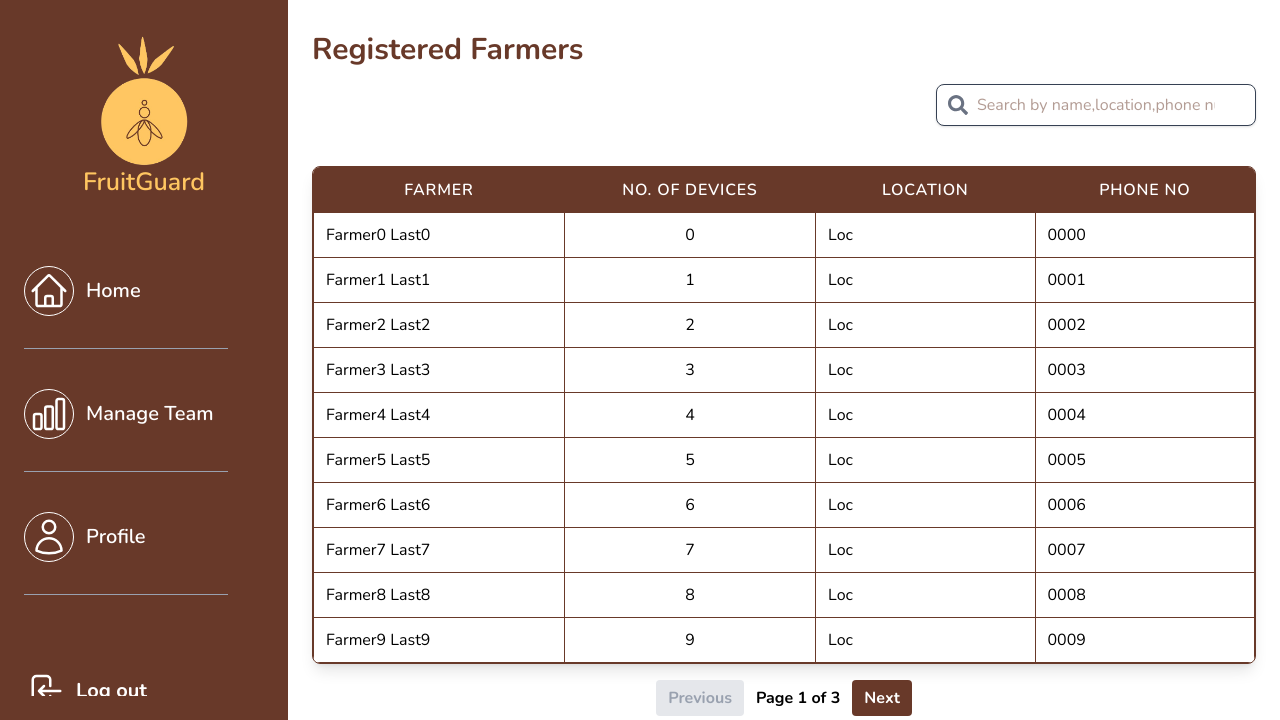
Test: Team component › handles pagination controls
The image size is (1280, 720).
Expected: the text "Page 1 of 3" is shown, 756,686 -> 840,710
Click the button "Next": point(882, 698) 852,680 -> 912,716
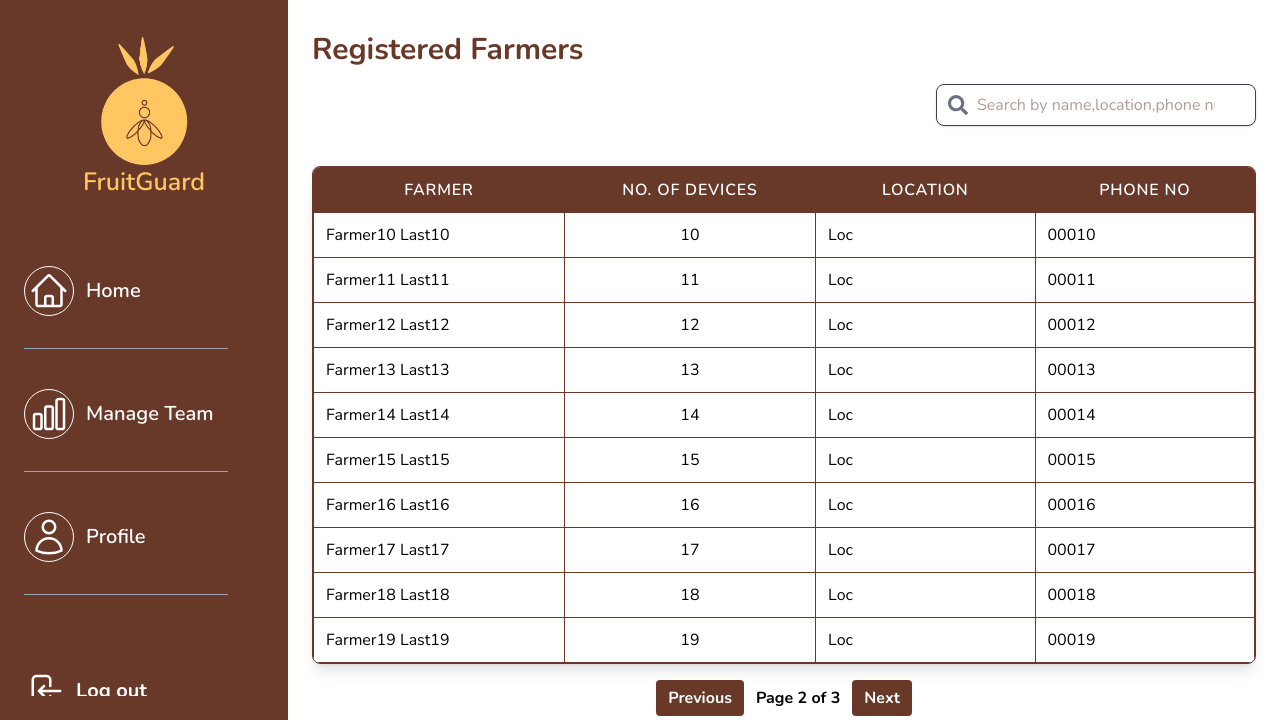
Expected: the text "Page 2 of 3" is shown, 756,686 -> 840,710
